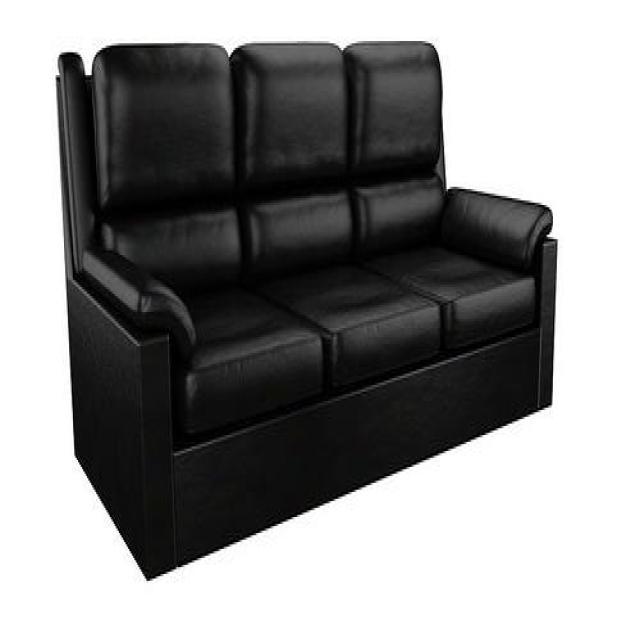sofa: (54, 36, 558, 581)
